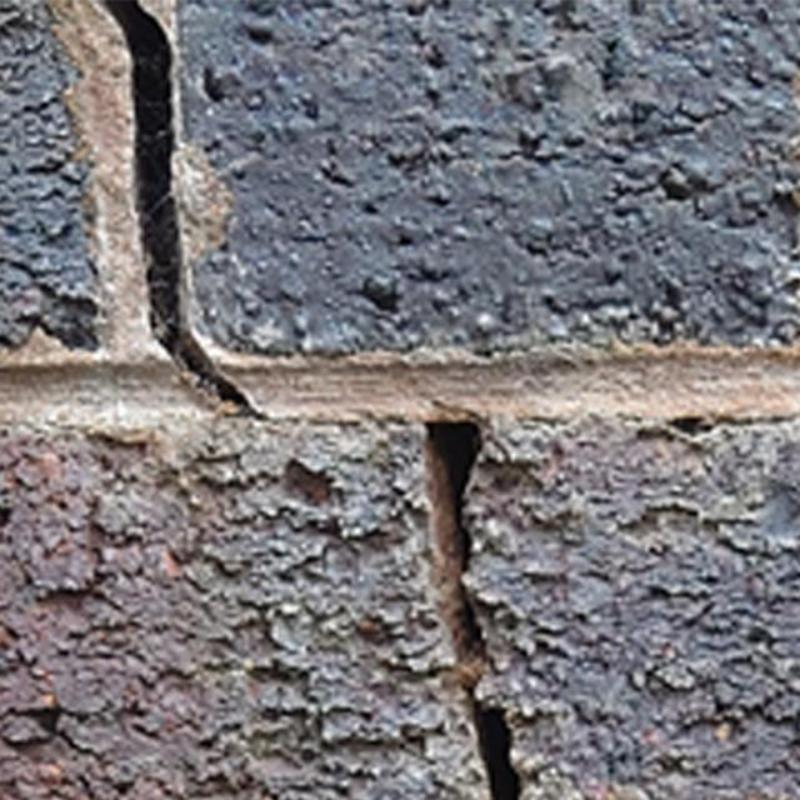pothole: (102, 0, 242, 401), (425, 422, 520, 799)
